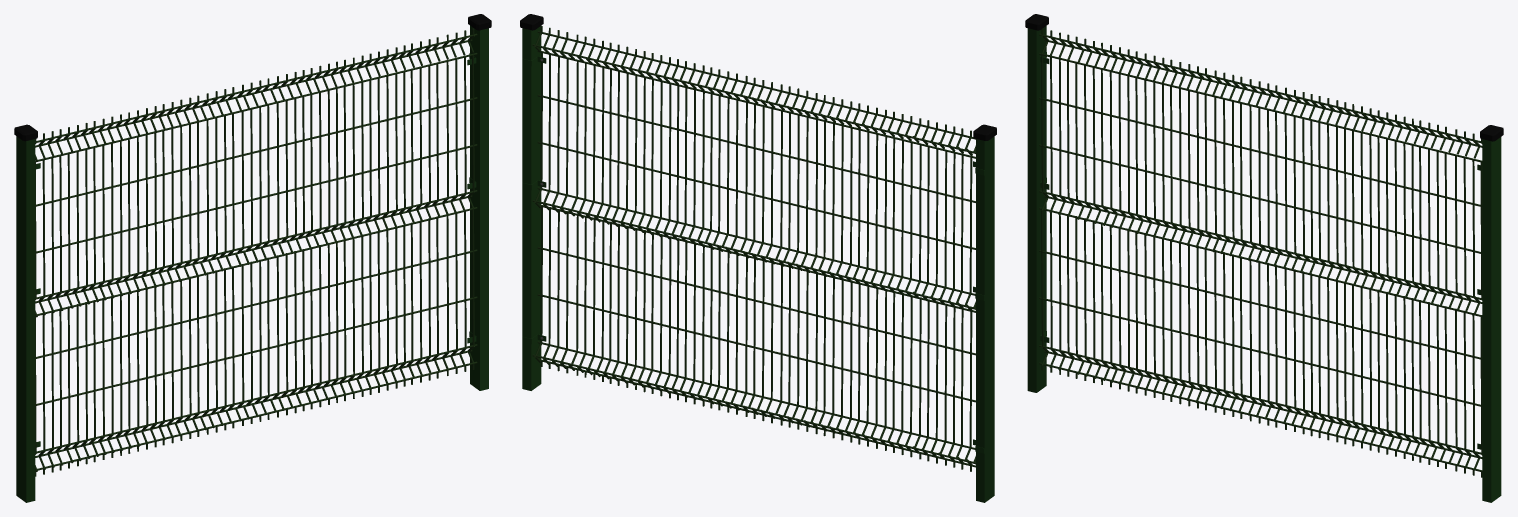
File: Fencing-green.fbx
3 views of the same model, side by side, from view 1: azimuth 30°, elevation 25°; view 2: azimuth 150°, elevation 25°; view 3: azimuth 330°, elevation 25° (orthographic).
Parts seen in each view (by area): view 1: Cube.001, Cube.002, Cylinder, Cylinder.001, Cylinder.006, Cylinder.552, Cylinder.002, Cylinder.005, Cylinder.004, Cylinder.370, Cylinder.007, Cylinder.003 (+3 smaller); view 2: Cube.001, Cube.002, Cylinder.128, Cylinder.129, Cylinder.551, Cylinder.006, Cylinder.005, Cylinder.002, Cylinder.001, Cylinder, Cylinder.370, Cylinder.007 (+3 smaller); view 3: Cube.002, Cube.001, Cylinder, Cylinder.006, Cylinder.002, Cylinder.552, Cylinder.005, Cylinder.001, Cylinder.004, Cylinder.370, Cylinder.007, Cylinder.003 (+3 smaller).
Boxes of the visible parts, box(x1,y1,x2,y2) form: Cube.001: box(16, 136, 35, 502); Cube.002: box(470, 25, 488, 390); Cylinder: box(35, 53, 477, 162); Cylinder.001: box(36, 97, 477, 206); Cylinder.006: box(35, 296, 477, 405); Cylinder.552: box(35, 361, 477, 470); Cylinder.002: box(35, 144, 477, 253); Cylinder.005: box(36, 249, 477, 358); Cylinder.004: box(37, 207, 477, 315); Cylinder.370: box(36, 33, 477, 142); Cylinder.007: box(36, 344, 477, 453); Cylinder.003: box(35, 190, 477, 299); Cube.001: box(976, 136, 994, 502); Cube.002: box(522, 26, 541, 390); Cylinder.128: box(532, 44, 975, 153); Cylinder.129: box(532, 200, 975, 309); Cylinder.551: box(532, 354, 975, 464); Cylinder.006: box(537, 294, 975, 402); Cylinder.005: box(537, 246, 975, 355); Cylinder.002: box(537, 141, 975, 249); Cylinder.001: box(537, 94, 975, 202); Cylinder: box(537, 51, 975, 158); Cylinder.370: box(537, 31, 975, 139); Cylinder.007: box(537, 341, 975, 449); Cube.002: box(1482, 137, 1501, 502); Cube.001: box(1027, 26, 1046, 392); Cylinder: box(1039, 53, 1482, 162); Cylinder.006: box(1039, 297, 1482, 406); Cylinder.002: box(1039, 144, 1482, 253); Cylinder.552: box(1039, 362, 1482, 471); Cylinder.005: box(1039, 250, 1482, 359); Cylinder.001: box(1039, 97, 1482, 206); Cylinder.004: box(1039, 207, 1482, 316); Cylinder.370: box(1039, 33, 1482, 142); Cylinder.007: box(1039, 345, 1481, 454); Cylinder.003: box(1039, 190, 1480, 299).
Size of the model in its own units: 36.5 by 27.46 by 1.48.
